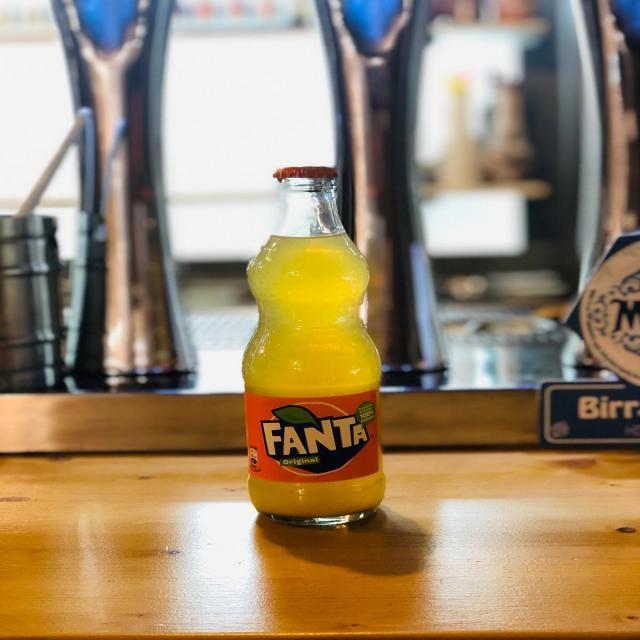Fanta: (242, 162, 388, 530)
